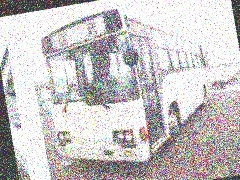bus: (36, 0, 224, 178)
